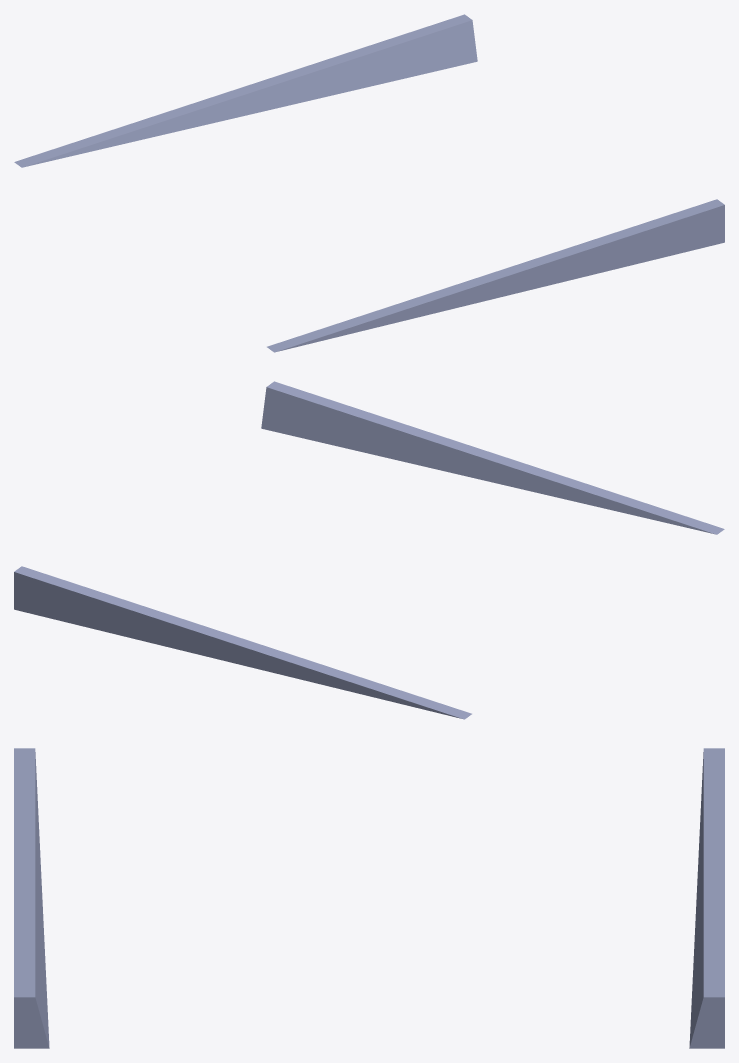
The model's file is road-straight-barrier-end.glb.
The picture shows the model from 3 angles, top to bottom: view 1: azimuth 30°, elevation 25°; view 2: azimuth 150°, elevation 25°; view 3: azimuth 270°, elevation 25°; orthographic projection. The views are drawn at different scales.
Visible parts, largest first — view 1: road-straight-barrier-end; view 2: road-straight-barrier-end; view 3: road-straight-barrier-end.
Part boxes in pixels (x1,y1,x2,y2): road-straight-barrier-end: [14, 14, 724, 352]; road-straight-barrier-end: [14, 381, 724, 719]; road-straight-barrier-end: [14, 748, 724, 1048].
Bounding box in the file's own units: 1 × 0.08 × 1.
